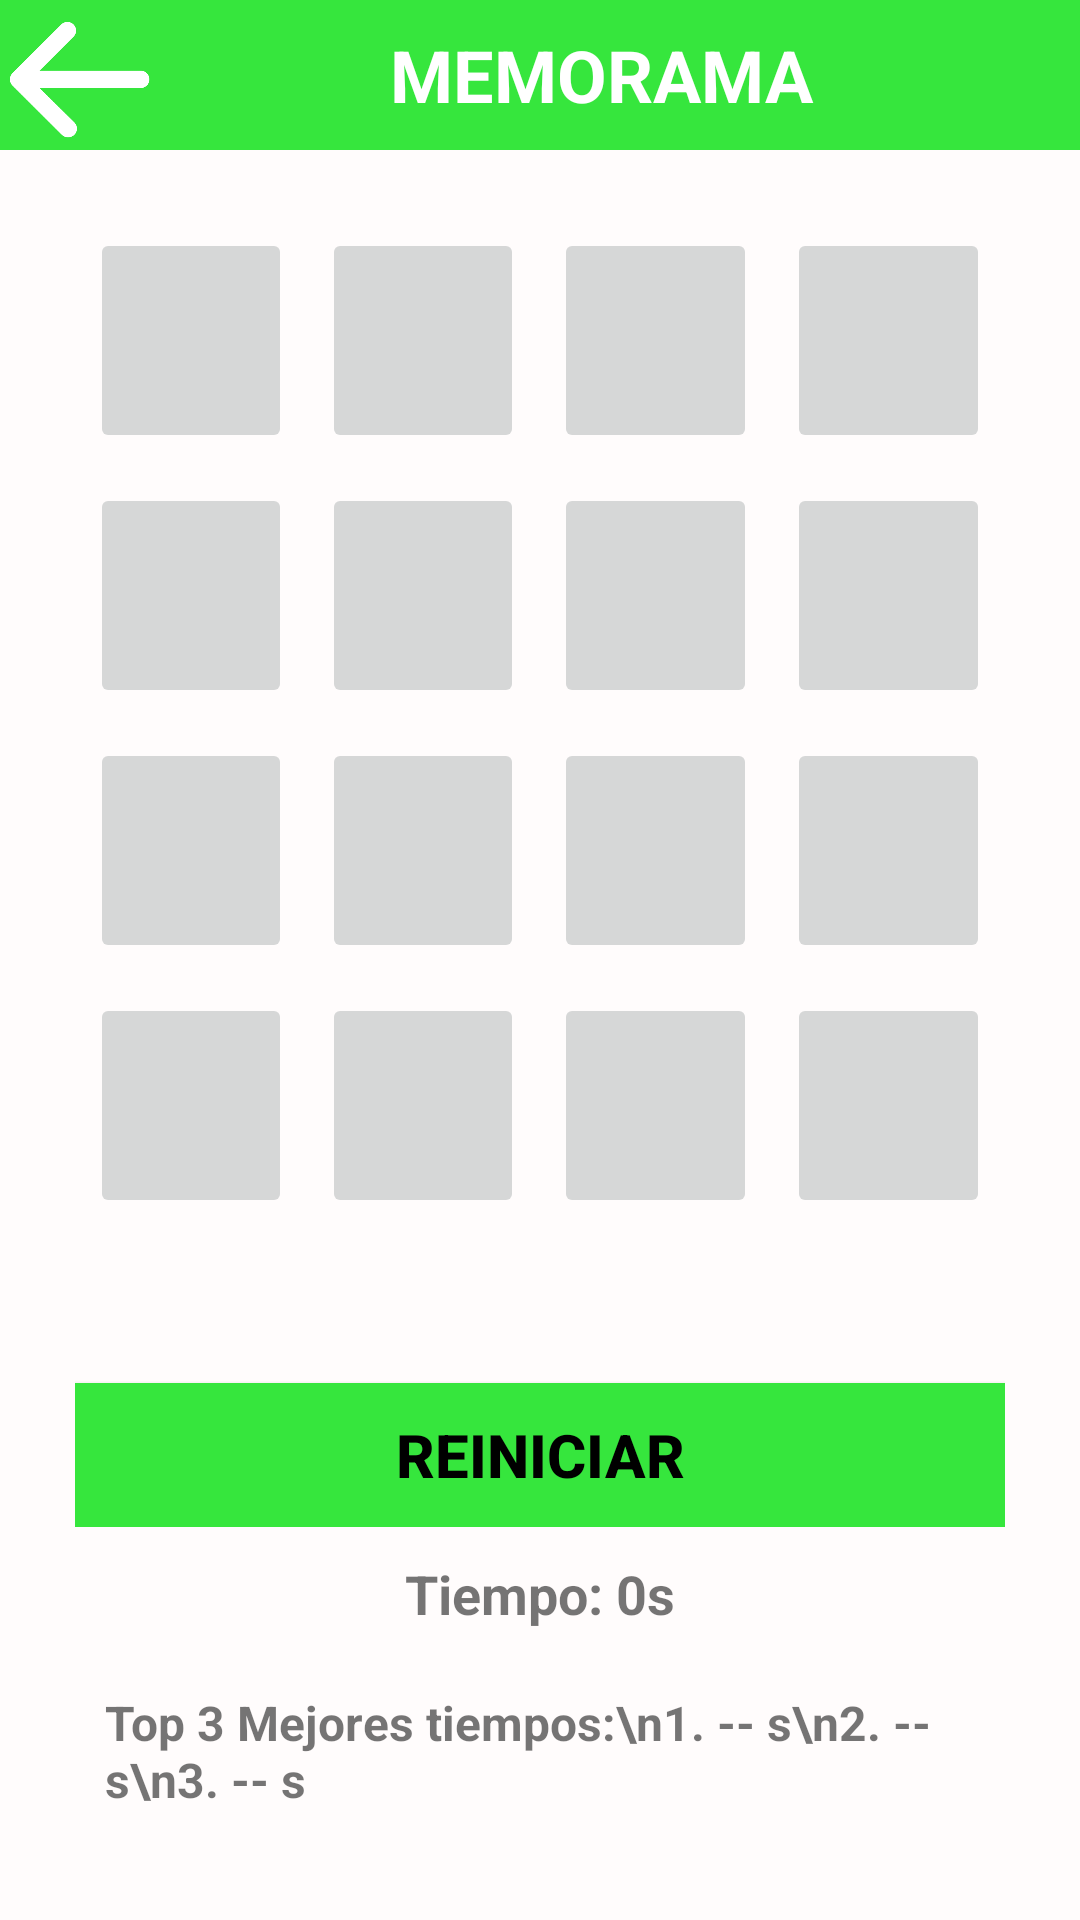

Screen size 1080w x 1920h. Icon name, then its center in pixels as [x,y]:
flecha izquierda: [80,79]
